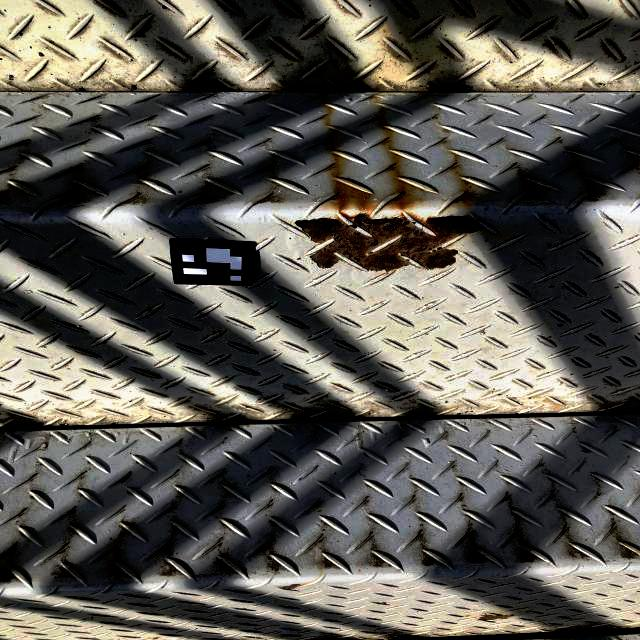Corrosion: (294, 214, 481, 271), (478, 613, 518, 621), (278, 583, 303, 590), (153, 637, 160, 639)
